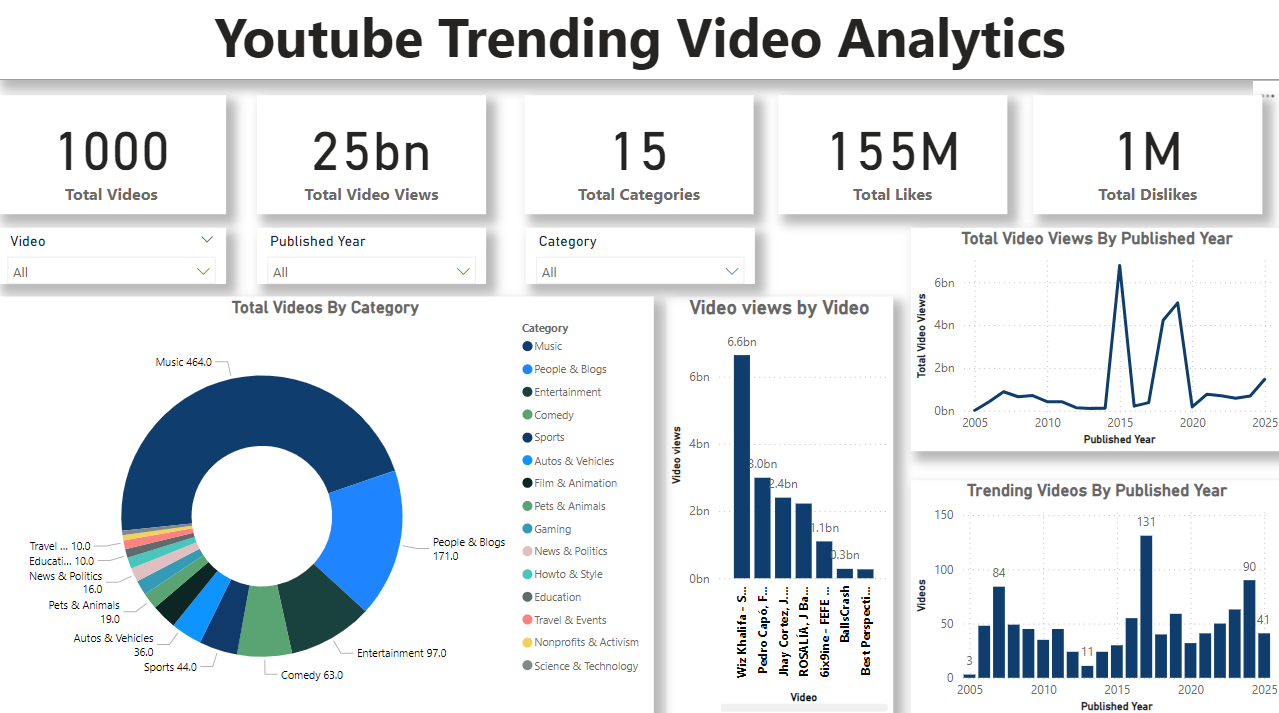

Layout of this report page (visuals, bound fields, positions):
{"tool":"powerbi","page":{"name":"Youtube Trending Videos","canvas":[1280,720],"ordinal":0},"visuals":[{"type":"textbox","box":[0,0,1280,85.3],"z":0},{"type":"clusteredColumnChart","title":" Video views by Video","fields":{"Category":["youtube_data_cleaned.Video"],"Y":["youtube_data_cleaned.Video views"]},"box":[665.1,301.5,226.5,418.4],"z":1000},{"type":"card","fields":{"Values":["youtube_data_cleaned.Video"]},"box":[0,101,228,118.3],"z":2000},{"type":"card","fields":{"Values":["youtube_data_cleaned.Category"]},"box":[525.2,101,228,118.3],"z":3000},{"type":"card","fields":{"Values":["youtube_data_cleaned.Video views"]},"box":[258.3,101,228,118.3],"z":4000},{"type":"card","fields":{"Values":["youtube_data_cleaned.Likes"]},"box":[777.6,101,228,118.3],"z":5000},{"type":"card","fields":{"Values":["youtube_data_cleaned.Dislikes"]},"box":[1031.6,101,228,118.3],"z":6000},{"type":"clusteredColumnChart","title":"Trending Videos By Published Year","fields":{"Category":["youtube_data_cleaned.published"],"Y":["youtube_data_cleaned.Video"]},"box":[908.9,483.3,370.8,236.6],"z":7000},{"type":"slicer","fields":{"Values":["youtube_data_cleaned.Category"]},"box":[526.6,232.3,228,56.3],"z":8000},{"type":"slicer","fields":{"Values":["youtube_data_cleaned.published"]},"box":[258.3,232.3,228,56.3],"z":9000},{"type":"slicer","fields":{"Values":["youtube_data_cleaned.Video"]},"box":[0,232.3,228,56.3],"z":10000},{"type":"lineChart","title":"Total Video Views By Published Year","fields":{"Category":["youtube_data_cleaned.published"],"Y":["youtube_data_cleaned.Video views"]},"box":[908.9,232.3,370.8,222.2],"z":11000},{"type":"donutChart","title":"Total Videos By Category","fields":{"Y":["youtube_data_cleaned.Video"],"Category":["youtube_data_cleaned.Category"]},"box":[0,301.5,653.6,418.4],"z":12000}]}

Visuals, with their boxes in screenshot pixels (x1, y1, x2, y2), scaled from the page's 1280x720 canvas onto the 1279x713 screenshot:
textbox: x1=0, y1=0, x2=1278, y2=84
" Video views by Video" clusteredColumnChart: x1=665, y1=299, x2=891, y2=712
card - youtube_data_cleaned.Video: x1=0, y1=100, x2=228, y2=217
card - youtube_data_cleaned.Category: x1=525, y1=100, x2=753, y2=217
card - youtube_data_cleaned.Video views: x1=258, y1=100, x2=486, y2=217
card - youtube_data_cleaned.Likes: x1=777, y1=100, x2=1005, y2=217
card - youtube_data_cleaned.Dislikes: x1=1031, y1=100, x2=1259, y2=217
"Trending Videos By Published Year" clusteredColumnChart: x1=908, y1=479, x2=1278, y2=712
slicer - youtube_data_cleaned.Category: x1=526, y1=230, x2=754, y2=286
slicer - youtube_data_cleaned.published: x1=258, y1=230, x2=486, y2=286
slicer - youtube_data_cleaned.Video: x1=0, y1=230, x2=228, y2=286
"Total Video Views By Published Year" lineChart: x1=908, y1=230, x2=1278, y2=450
"Total Videos By Category" donutChart: x1=0, y1=299, x2=653, y2=712
